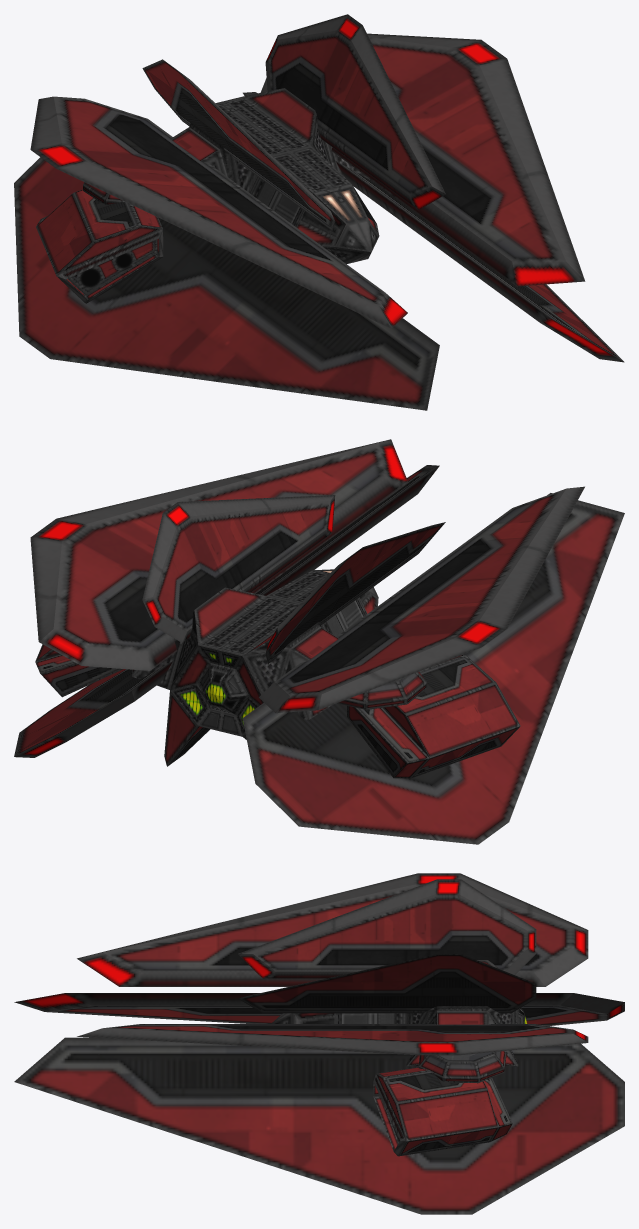
File: BFP_SmallStarship02.FBX
3 views of the same model, one above another, from view 1: azimuth 30°, elevation 25°; view 2: azimuth 150°, elevation 25°; view 3: azimuth 270°, elevation 25° (orthographic). The views are drawn at different scales.
Parts seen in each view (by area): view 1: LowerWingRight, MiddleWingLeft, MiddleWingRight, UpperWingLeft, Cockpit, MissileLauncherBayRight, LowerWingLeft, UpperWingRight; view 2: LowerWingRight, MiddleWingLeft, MiddleWingRight, Cockpit, UpperWingLeft, MissileLauncherBayRight, LowerWingLeft, UpperWingRight, MissileLauncherBayLeft, MissileLauncherRight; view 3: LowerWingLeft, MiddleWingRight, UpperWingRight, MiddleWingLeft, UpperWingLeft, MissileLauncherBayLeft, LowerWingRight, Cockpit, MissileLauncherLeft.
Part boxes in pixels (box(x1,y1,x2,y2)): LowerWingRight: box(14, 157, 439, 410); MiddleWingLeft: box(260, 33, 585, 286); MiddleWingRight: box(30, 96, 407, 328); UpperWingLeft: box(265, 14, 445, 210); Cockpit: box(170, 88, 379, 263); MissileLauncherBayRight: box(36, 189, 163, 303); LowerWingLeft: box(243, 92, 624, 362); UpperWingRight: box(142, 59, 335, 230); LowerWingRight: box(242, 493, 624, 844); MiddleWingLeft: box(30, 439, 407, 670); MiddleWingRight: box(259, 486, 584, 713); Cockpit: box(132, 569, 378, 766); UpperWingLeft: box(142, 495, 335, 642); MissileLauncherBayRight: box(347, 654, 520, 778); LowerWingLeft: box(14, 465, 439, 757); UpperWingRight: box(265, 522, 445, 663); MissileLauncherBayLeft: box(35, 644, 123, 697); MissileLauncherRight: box(337, 672, 427, 709); LowerWingLeft: box(14, 1037, 624, 1214); MiddleWingRight: box(77, 873, 588, 986); UpperWingRight: box(238, 879, 536, 978); MiddleWingLeft: box(77, 1024, 588, 1055); UpperWingLeft: box(238, 954, 536, 1013); MissileLauncherBayLeft: box(373, 1067, 512, 1156); LowerWingRight: box(14, 993, 624, 1025); Cockpit: box(271, 960, 526, 1066); MissileLauncherLeft: box(418, 1051, 506, 1083).
Size of the model in its own units: 104 by 53.1 by 143.
1 material, 1 textured.
